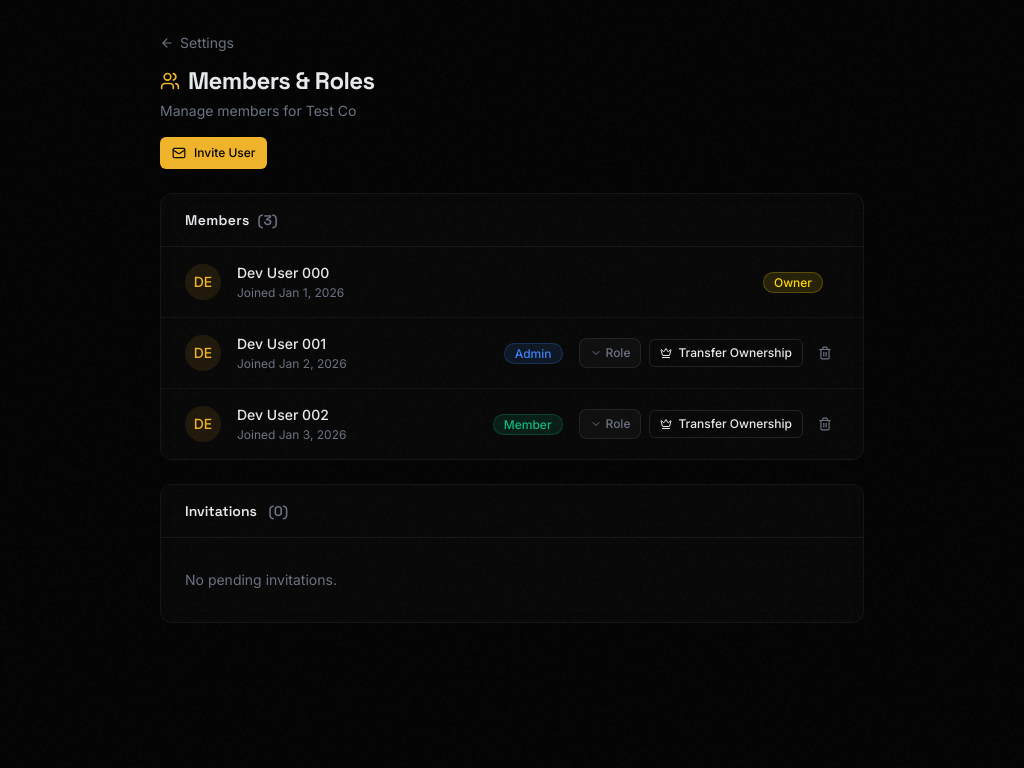
Test case: Ownership Transfer UI › confirmation modal › opens a modal identifying the target and warning about demotion on click
Expected: the text "Dev User 001" is shown, top-left (237, 335), bottom-right (326, 352)
// Click Transfer Ownership on the admin row
Click the button "Transfer Ownership" in the row of "Dev User 001". click: coordinates (726, 353)
box: top-left (650, 339), bottom-right (803, 367)
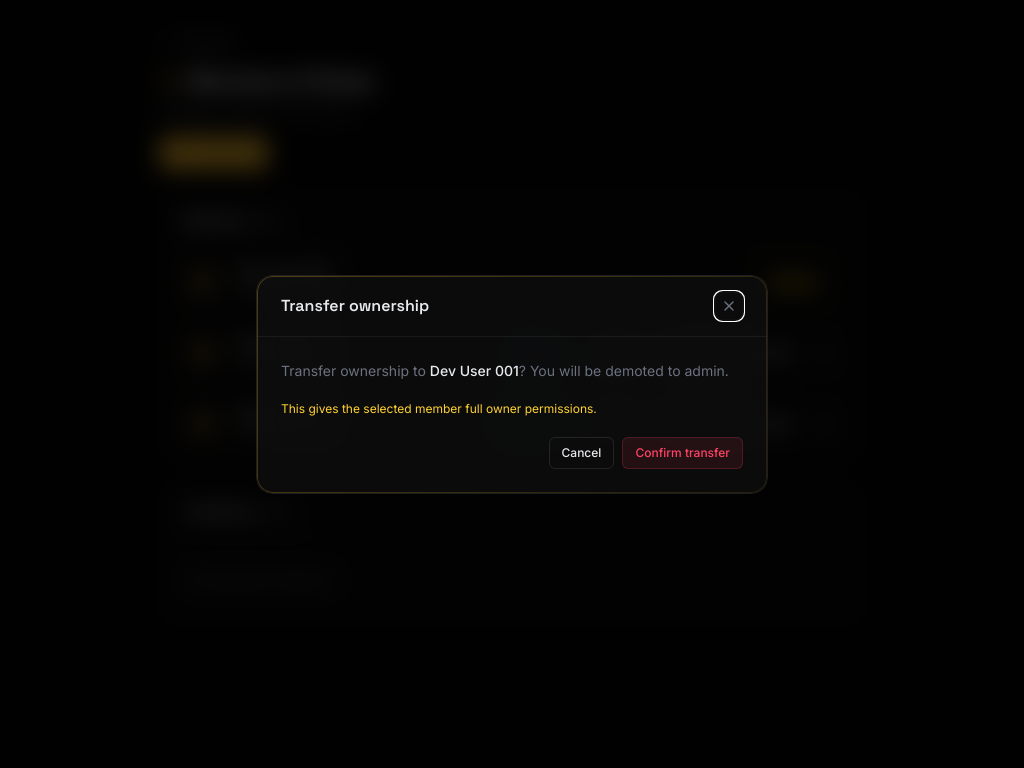
Now the heading "Transfer ownership" is shown, box top-left (281, 294), bottom-right (429, 318)
Now the text "demoted to admin" is shown, box top-left (519, 362), bottom-right (729, 378)
